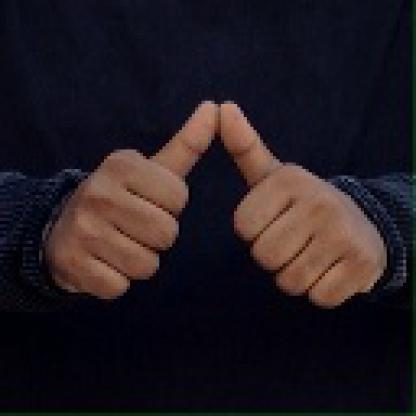A: (49, 100, 398, 310)
